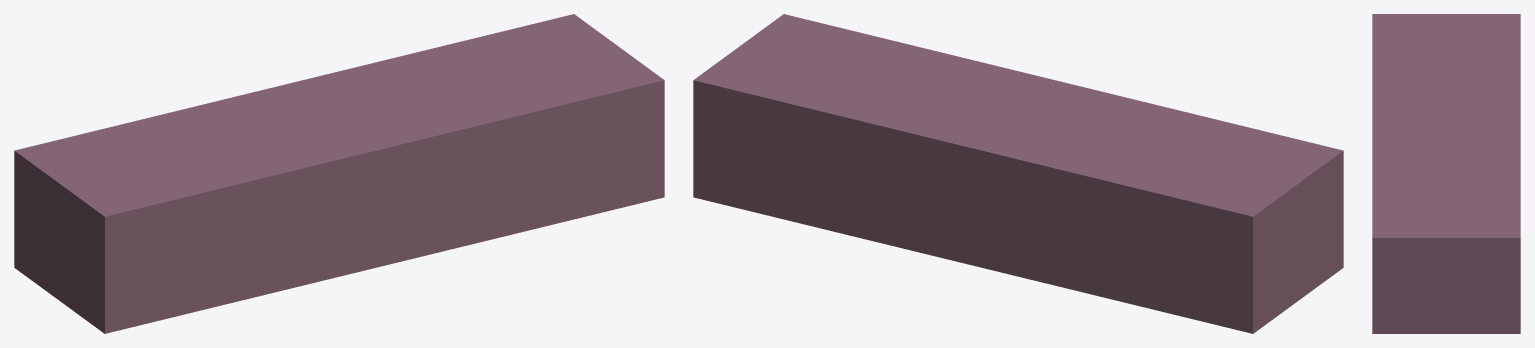
File: plank.glb
The picture shows the model from 3 angles, left to right: view 1: azimuth 30°, elevation 25°; view 2: azimuth 150°, elevation 25°; view 3: azimuth 270°, elevation 25°; orthographic projection. The views are drawn at different scales.
Parts seen in each view (by area): view 1: Plank; view 2: Plank; view 3: Plank.
Boxes of the visible parts, left/top/right/bottom form: Plank: left=14, top=14, right=664, bottom=333; Plank: left=693, top=14, right=1343, bottom=333; Plank: left=1372, top=14, right=1520, bottom=333.
Size of the model in its own units: 0.5 by 0.1 by 0.14.
